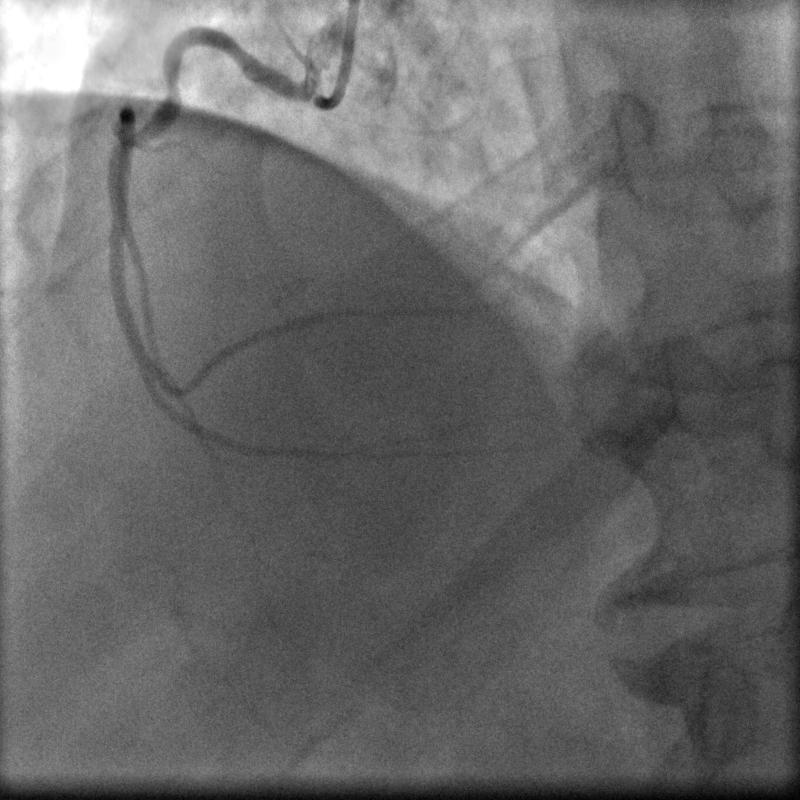Stenosis: (160, 71, 183, 109)
